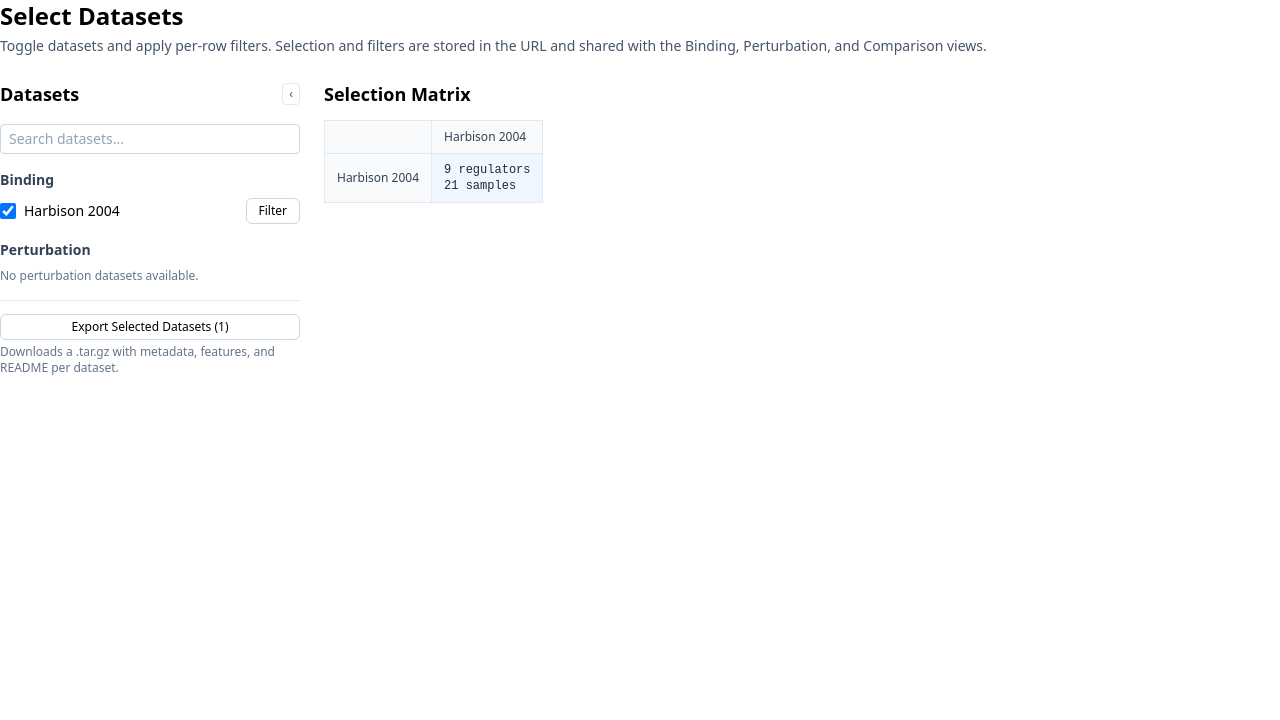
it: Select route › clicking a diagonal cell opens the breakdown modal with /selection/breakdown data
What coordinates should you click on to do the following:
click the button "9 regulators21 samples"
I would click on:
 (487, 178)
Its box is [432,154,542,202].
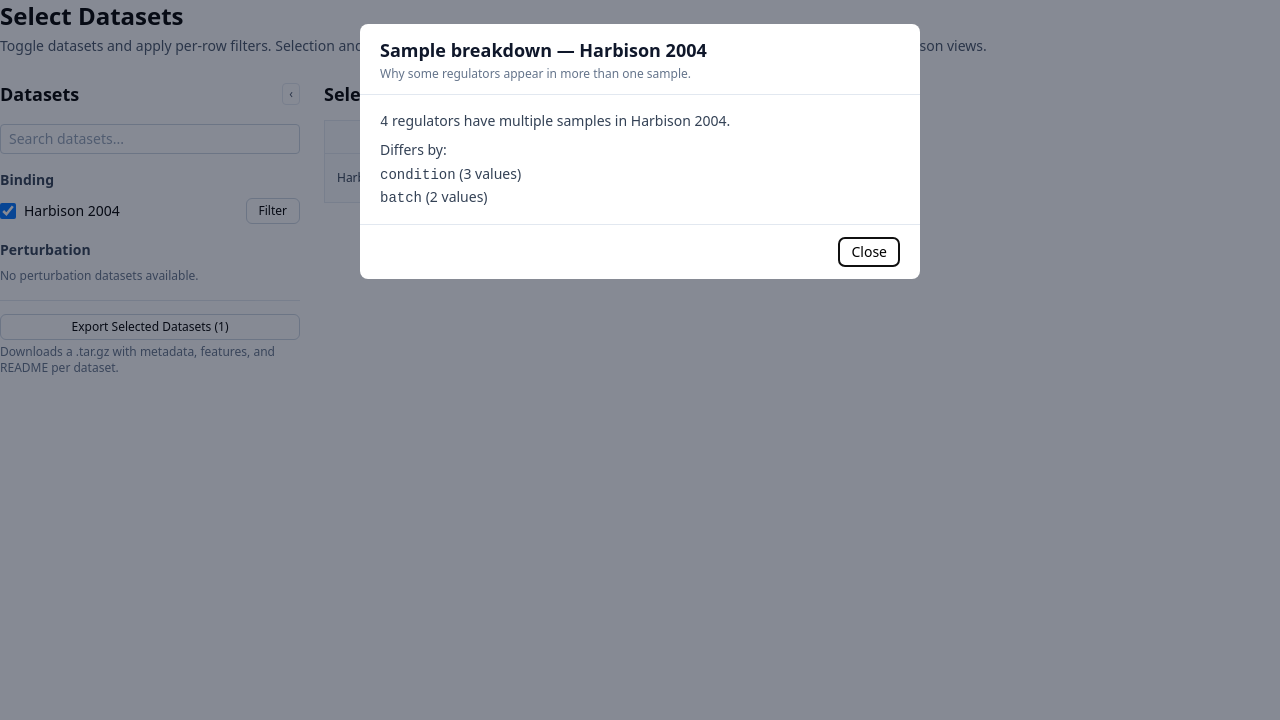
Now the list item with test id "breakdown-col-condition" is shown, box [380,164,521,183]
Now the list item with test id "breakdown-col-batch" is shown, box [380,187,488,206]
